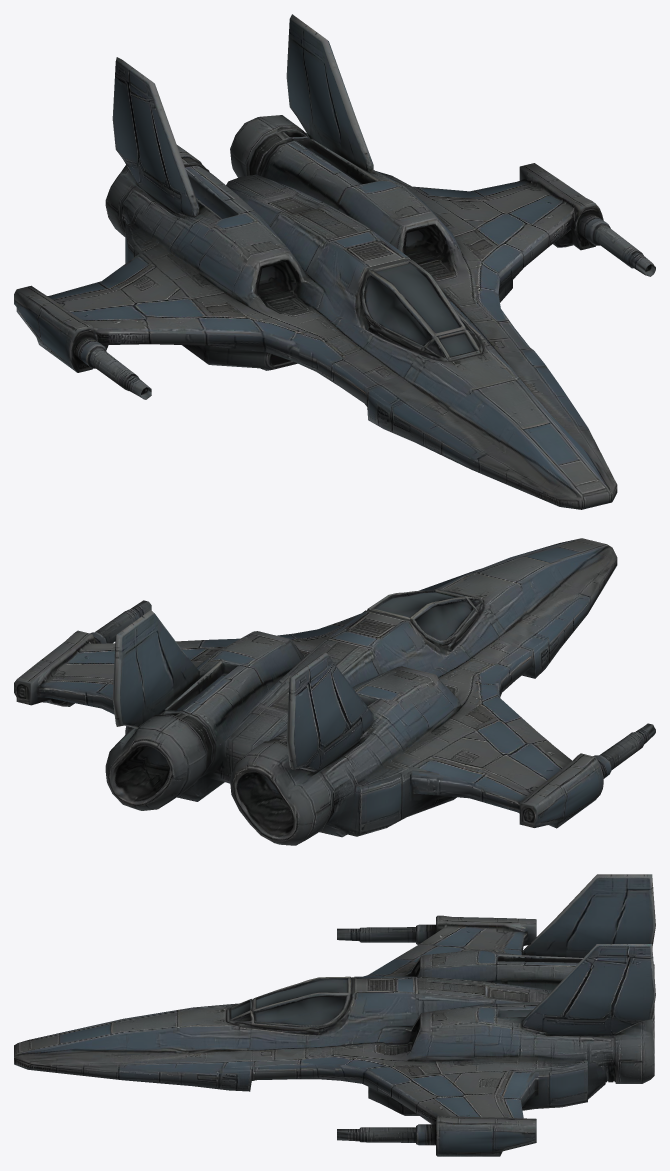
3 renders of one model, top to bottom at view 1: azimuth 30°, elevation 25°; view 2: azimuth 150°, elevation 25°; view 3: azimuth 270°, elevation 25°, orthographic. The views are drawn at different scales.
Visible parts, largest first — view 1: tripo_node_84850890-a360-4597-b2fb-7dda19b7a50d; view 2: tripo_node_84850890-a360-4597-b2fb-7dda19b7a50d; view 3: tripo_node_84850890-a360-4597-b2fb-7dda19b7a50d.
Boxes of the visible parts, x1,y1,x2,y2 form: tripo_node_84850890-a360-4597-b2fb-7dda19b7a50d: (14, 14, 655, 509); tripo_node_84850890-a360-4597-b2fb-7dda19b7a50d: (14, 538, 655, 845); tripo_node_84850890-a360-4597-b2fb-7dda19b7a50d: (14, 874, 655, 1156).
Bounding box in the file's own units: 0.7793 × 0.2598 × 0.998.
Materials: 1 (1 with a texture image).
